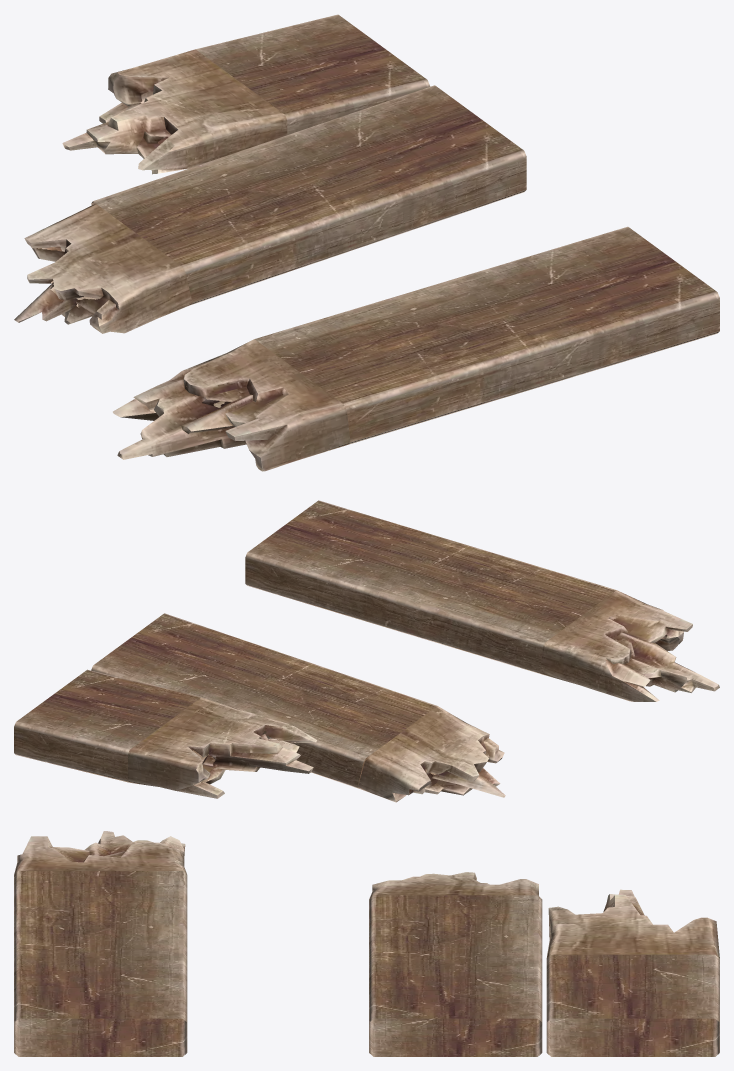
3 views of the same model, one above another, from view 1: azimuth 30°, elevation 25°; view 2: azimuth 150°, elevation 25°; view 3: azimuth 270°, elevation 25° (orthographic). The views are drawn at different scales.
Visible parts, largest first — view 1: SM_BrokenWood_07_LOD0; view 2: SM_BrokenWood_07_LOD0; view 3: SM_BrokenWood_07_LOD0.
Boxes of the visible parts, x1=… form: SM_BrokenWood_07_LOD0: x1=14, y1=14, x2=719, y2=471; SM_BrokenWood_07_LOD0: x1=14, y1=500, x2=719, y2=802; SM_BrokenWood_07_LOD0: x1=14, y1=831, x2=719, y2=1056.
Bounding box in the file's own units: 1.86 × 0.3031 × 2.25.
Materials: 1 (1 with a texture image).
